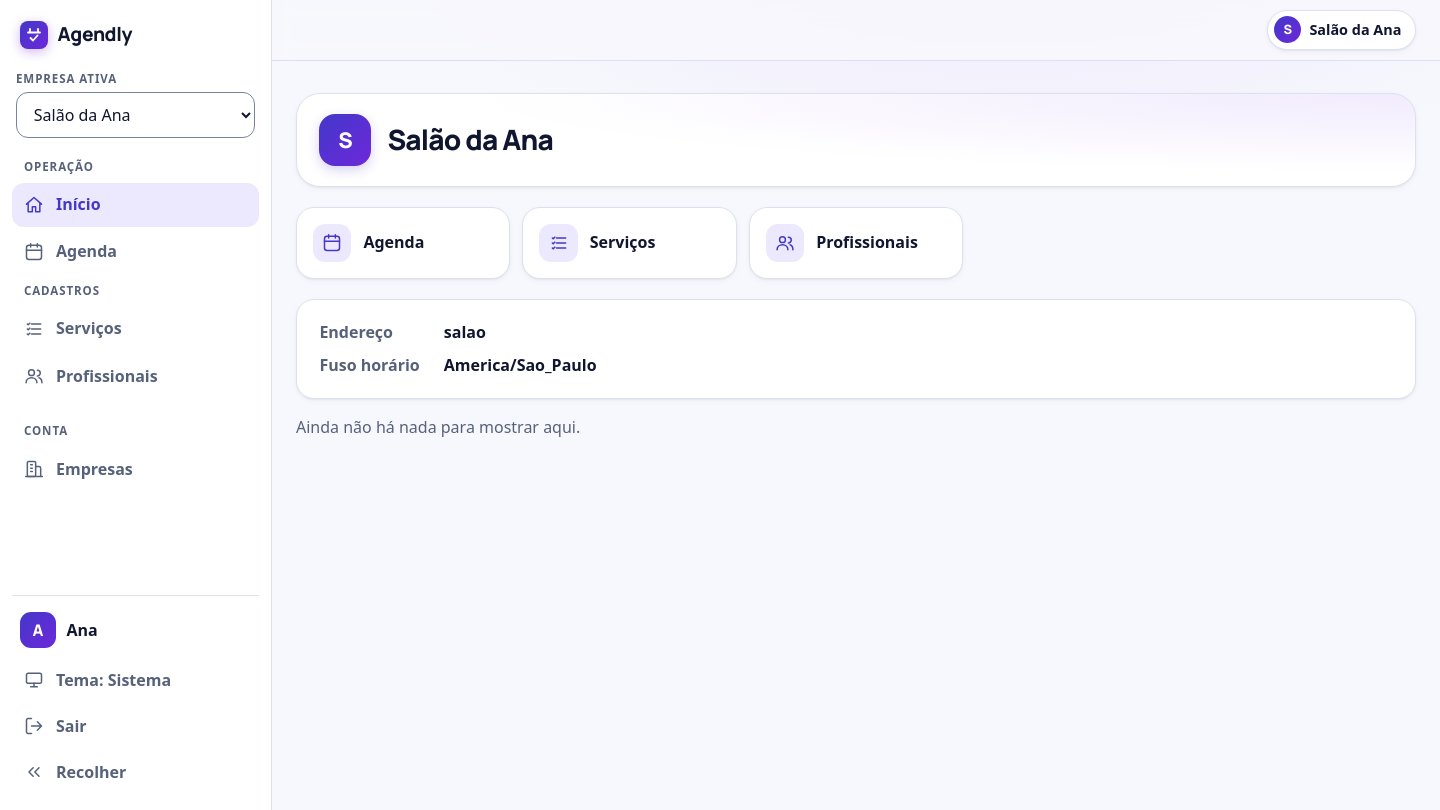
Test: recolher (desktop) › alterna entre expandida e recolhida; recolhida mostra a empresa em um atalho e mantém os nomes acessíveis
The image size is (1440, 810).
Click the button with aria-label "Recolher menu". click: (136, 772)
box: x1=12 y1=750 x2=259 y2=794
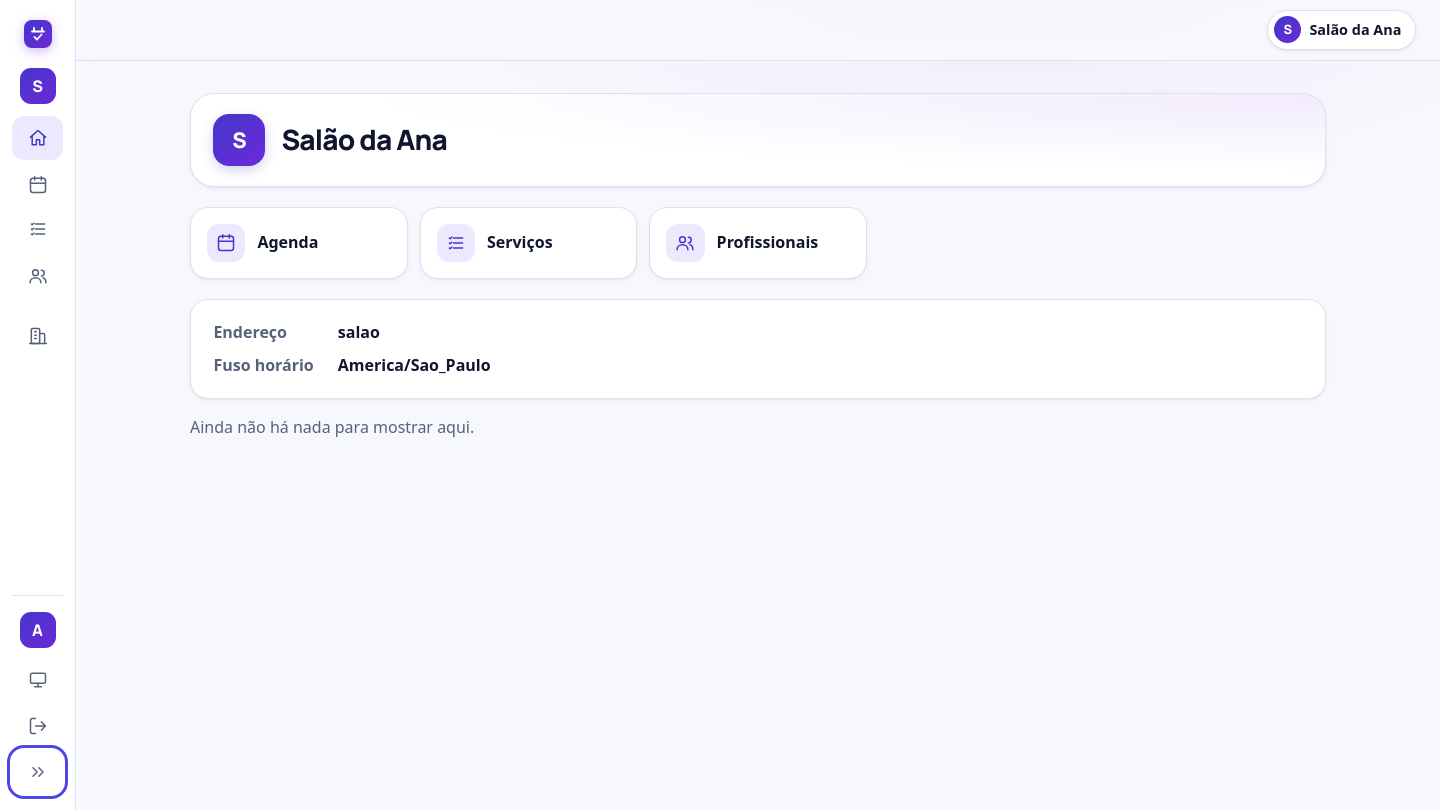
Expected: the link named "Agenda" is shown, x1=12 y1=163 x2=63 y2=207
Expected: the button named "Expandir menu" is collapsed
Click the button named "Expandir menu". click: (38, 772)
box: x1=12 y1=750 x2=63 y2=794
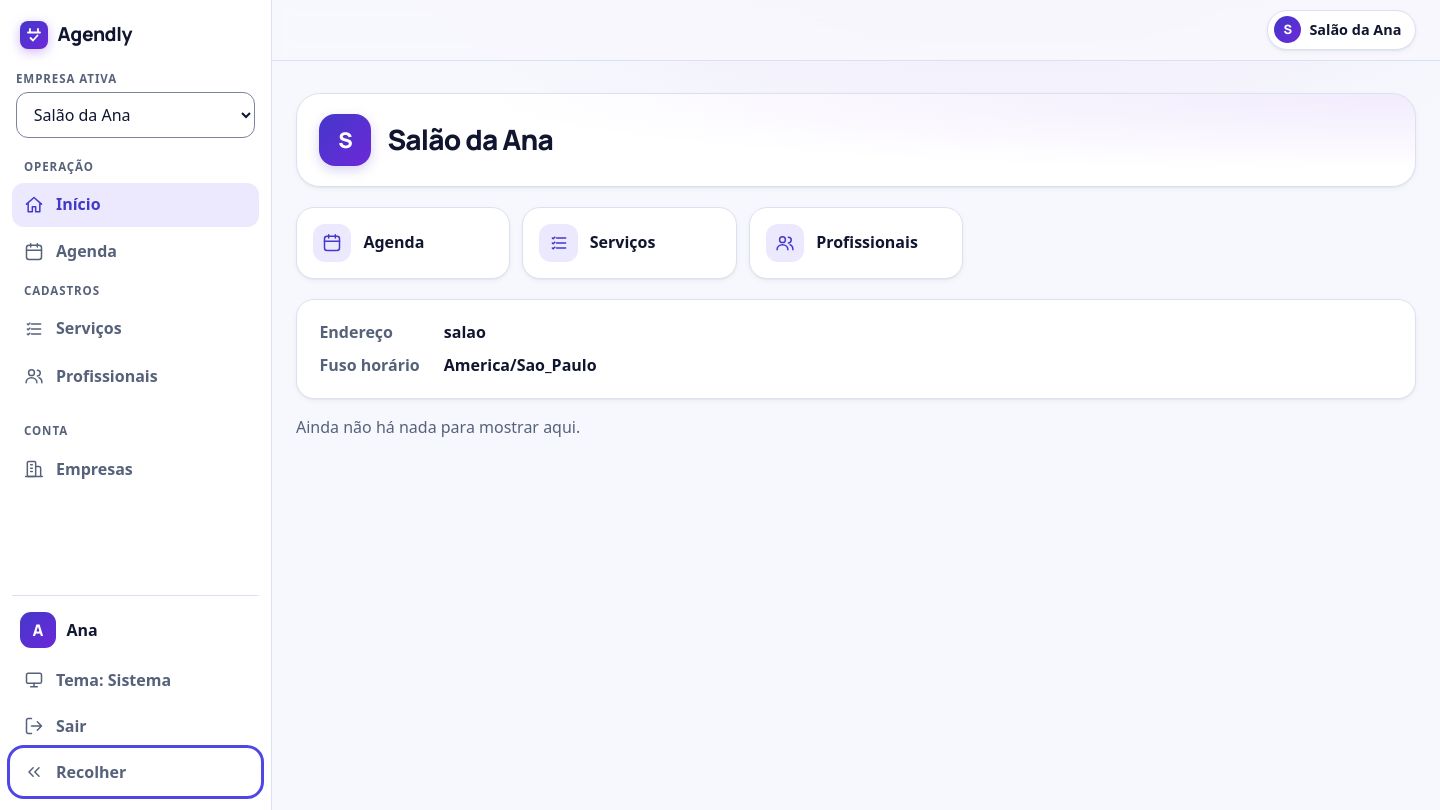
Expected: the dropdown labelled "Empresa ativa" is shown, x1=16 y1=92 x2=255 y2=138
